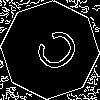C: (25, 25, 83, 82)
